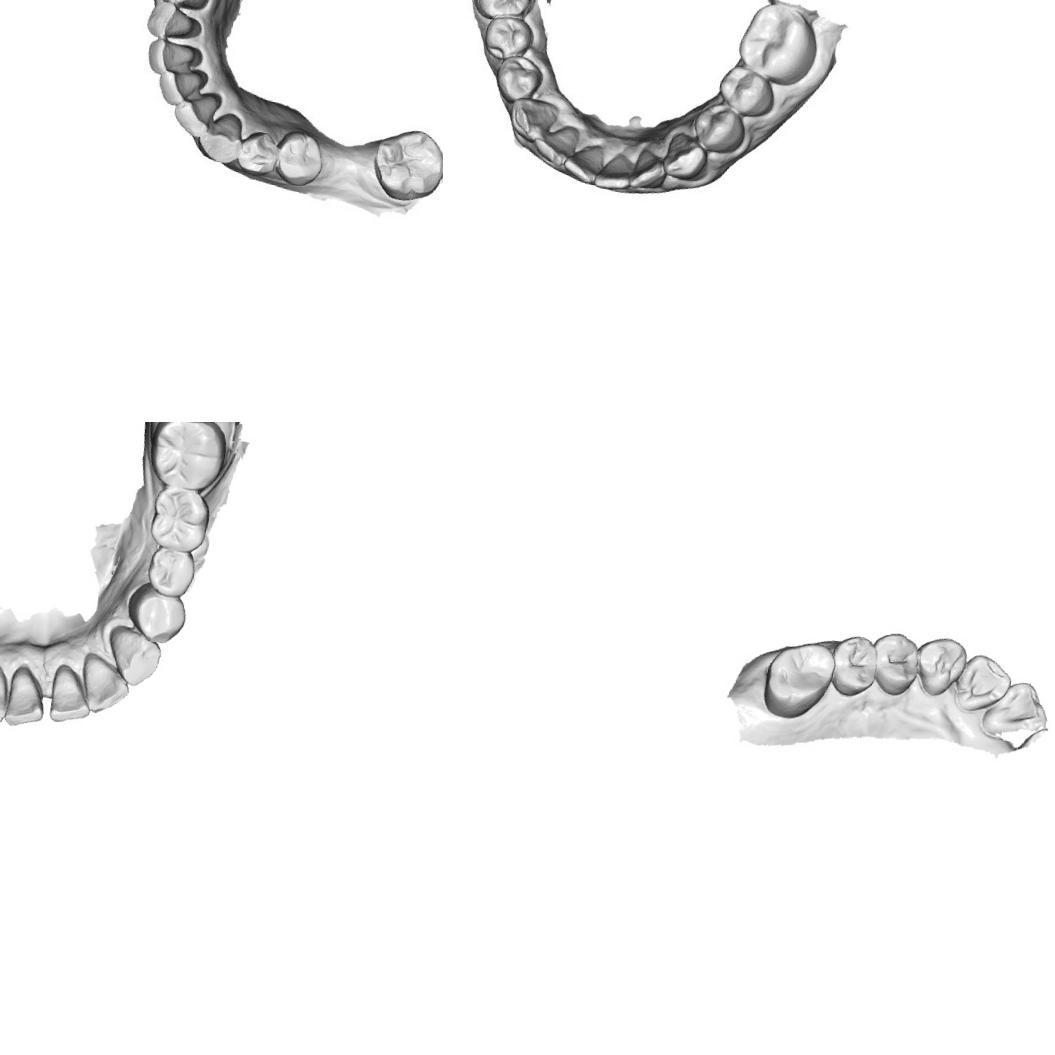canine: (102, 623, 166, 691), (912, 632, 970, 701), (196, 106, 253, 168), (660, 127, 714, 188), (139, 0, 205, 47), (504, 93, 558, 146)
incisor: (980, 676, 1052, 744), (950, 650, 1014, 720), (74, 650, 134, 718), (2, 664, 51, 732), (46, 662, 96, 728), (168, 89, 224, 141), (156, 61, 212, 109), (144, 35, 204, 79), (564, 141, 606, 180), (536, 126, 576, 164), (630, 146, 664, 183), (597, 153, 631, 187), (0, 660, 12, 724)
molar: (758, 634, 838, 727), (738, 1, 820, 89), (368, 122, 443, 206), (144, 422, 231, 494), (145, 483, 214, 555), (465, 0, 543, 27)
premolar: (122, 580, 191, 648), (866, 628, 923, 700), (826, 632, 882, 700), (718, 63, 780, 118), (478, 12, 540, 66), (142, 543, 198, 601), (232, 130, 288, 185), (272, 130, 325, 188), (690, 102, 747, 154), (497, 54, 545, 107), (155, 0, 213, 14)
